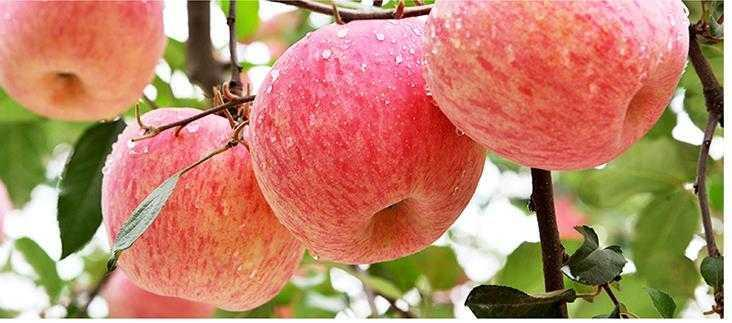apple: (246, 17, 489, 261), (420, 1, 688, 172), (101, 104, 305, 311), (1, 4, 164, 122)
